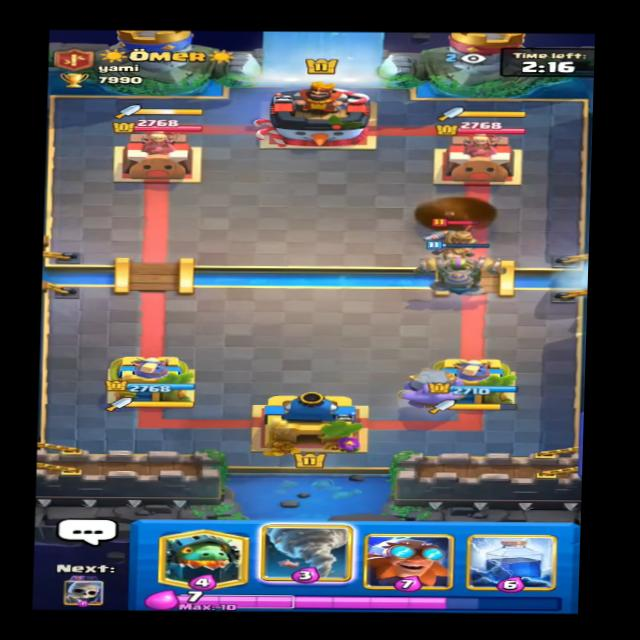prince: (423, 211, 485, 269)
